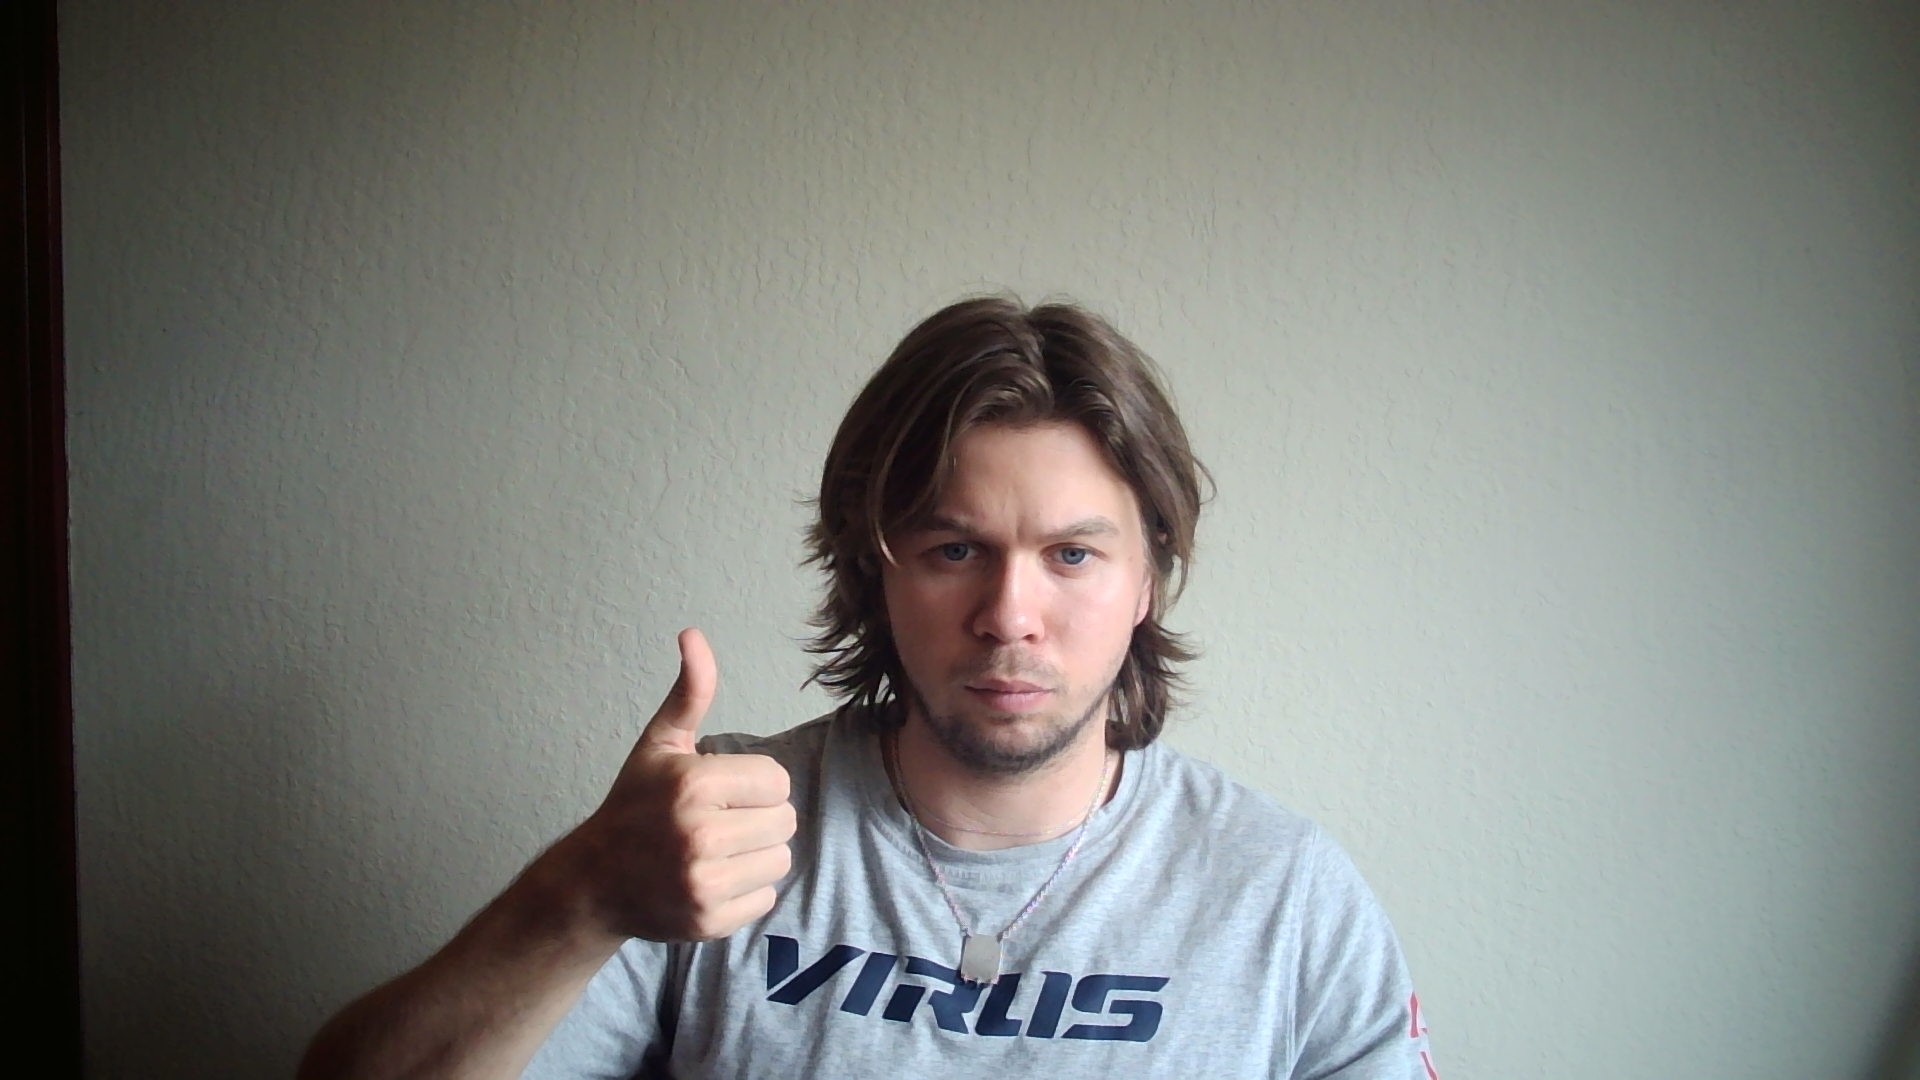good: (605, 626, 796, 945)
